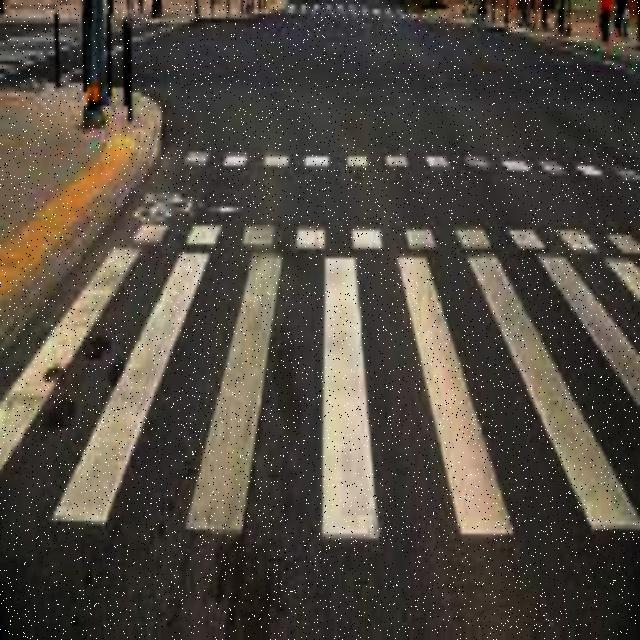crosswalk: (2, 240, 639, 571), (280, 0, 417, 42), (2, 23, 82, 83)
